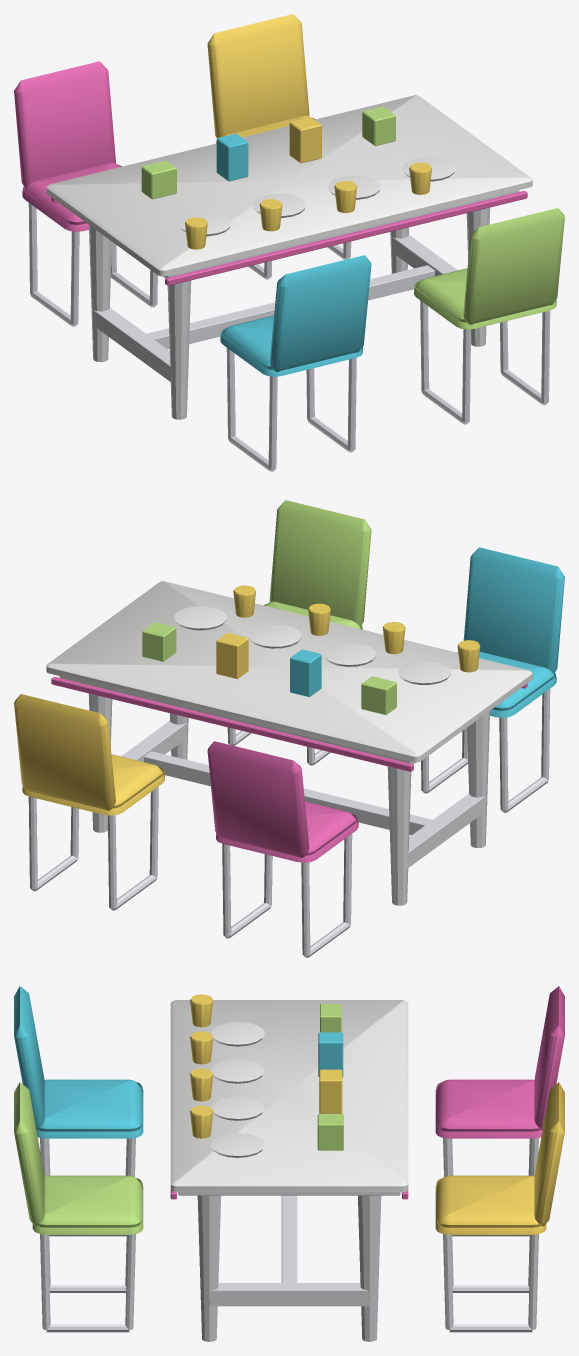
File: laser-tag-arena-and-activity-centre-party-room-table-w-1e96b2fc__34499.glb
The picture shows the model from 3 angles, top to bottom: view 1: azimuth 30°, elevation 25°; view 2: azimuth 150°, elevation 25°; view 3: azimuth 270°, elevation 25°; orthographic projection.
Parts seen in each view (by area): view 1: party-room-table-with-chairs; view 2: party-room-table-with-chairs; view 3: party-room-table-with-chairs.
Part boxes in pixels (x1,y1,x2,y2): party-room-table-with-chairs: [14, 14, 564, 471]; party-room-table-with-chairs: [14, 500, 564, 957]; party-room-table-with-chairs: [14, 986, 564, 1341].
Size of the model in its own units: 1.7 by 0.9003 by 2.13.
